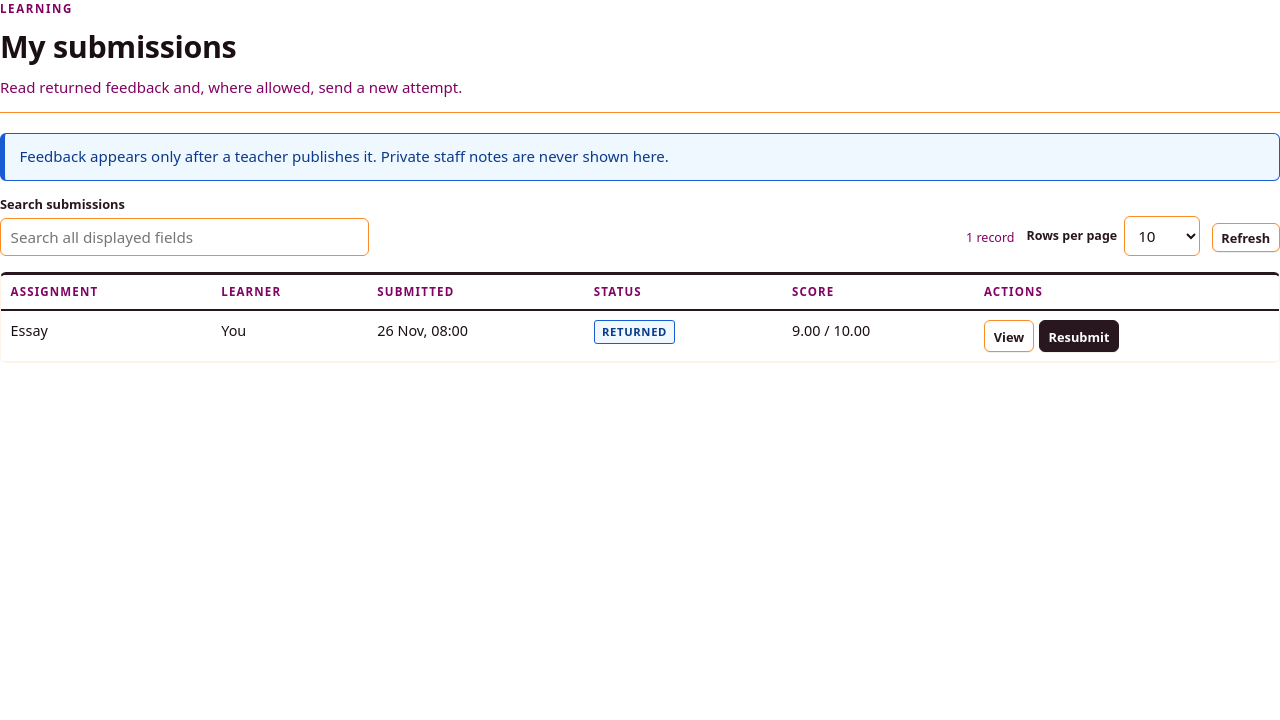
Scenario: portal submission feedback › shows published feedback and criterion comments
Click the button with aria-label "View feedback for Essay": [1009, 336] box [984, 320, 1034, 352]
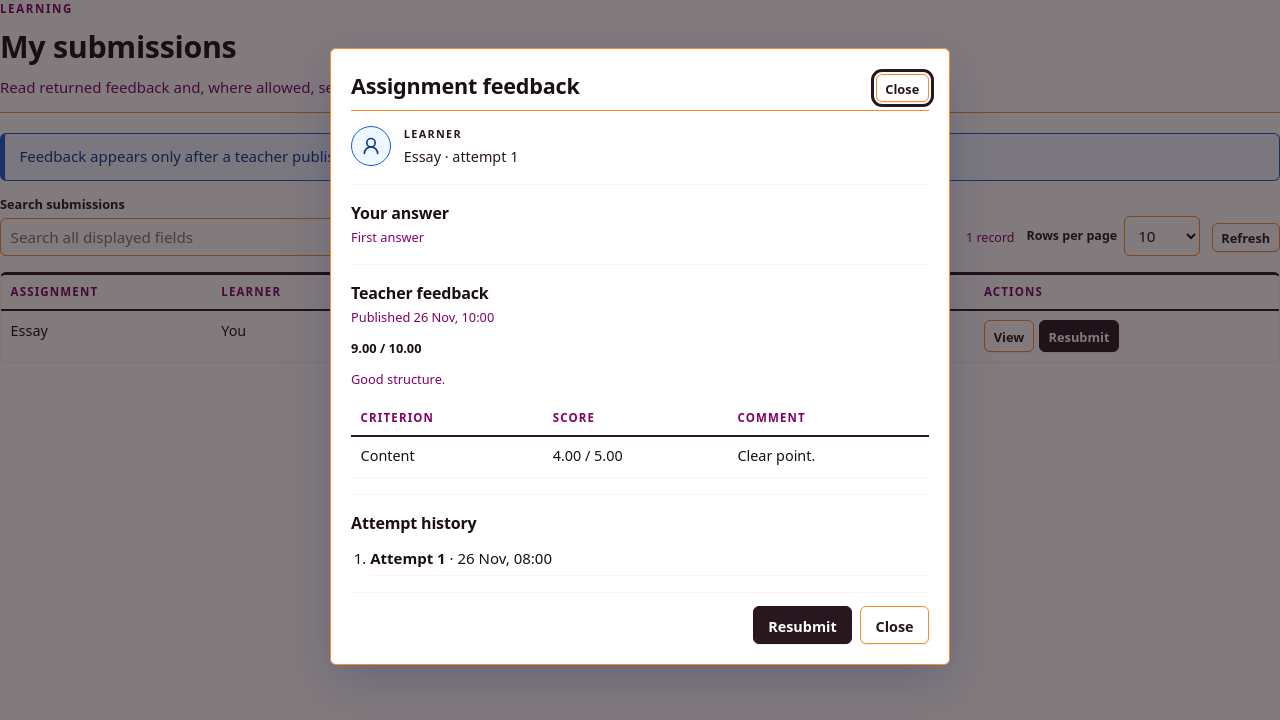
Result: the text "Good structure." is shown at [351, 370, 445, 388]
Result: the text "Clear point." is shown at [728, 436, 929, 477]
